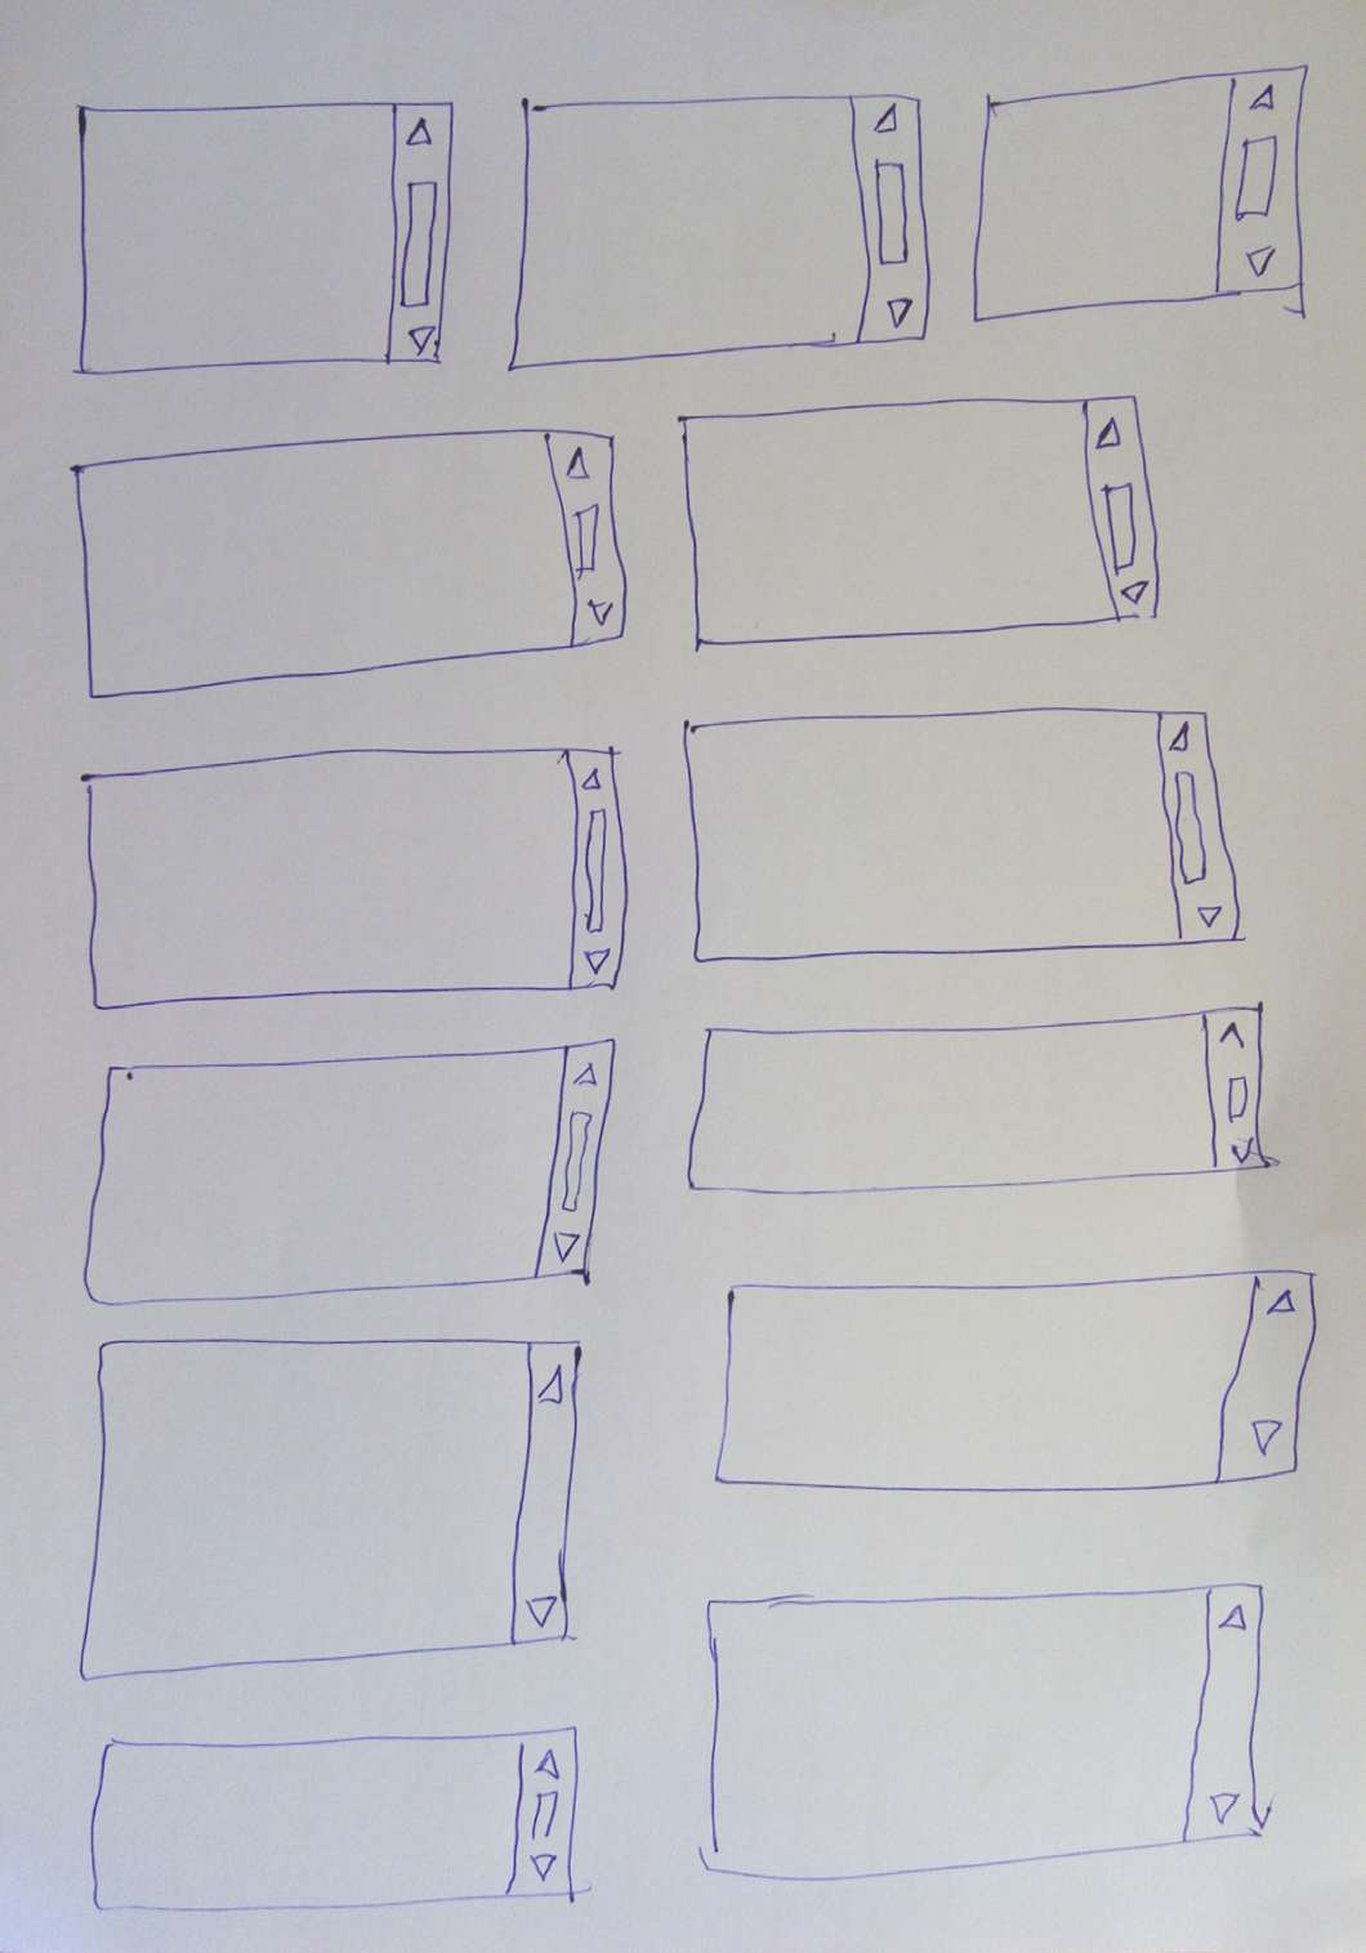Textarea: (698, 1582, 1281, 1880), (79, 1339, 582, 1681), (70, 429, 627, 699), (683, 706, 1247, 963), (80, 746, 628, 1011), (83, 1037, 616, 1306), (716, 1269, 1317, 1491), (679, 395, 1160, 651), (508, 93, 931, 371), (687, 1002, 1281, 1195), (71, 102, 454, 375), (91, 1726, 594, 1914), (973, 64, 1310, 322)
